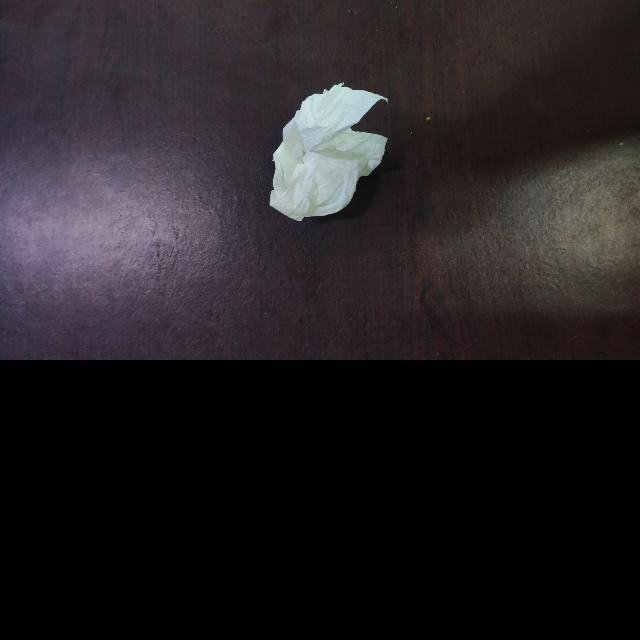kitchen paper: (265, 80, 394, 225)
